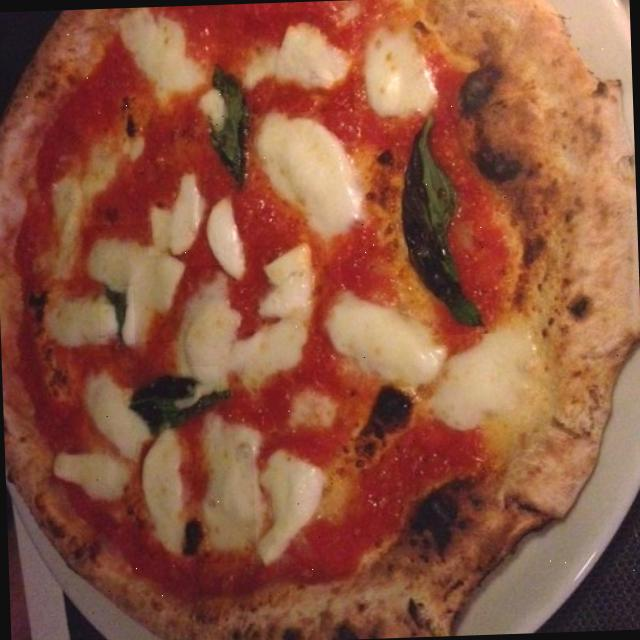basil: (386, 118, 496, 335), (194, 65, 256, 194), (125, 364, 220, 440), (100, 285, 134, 344)
cheese: (319, 279, 449, 407), (244, 106, 372, 232), (424, 312, 542, 442), (223, 242, 325, 385), (80, 221, 182, 344), (252, 446, 344, 576), (243, 9, 354, 113), (190, 412, 266, 562), (109, 7, 218, 106), (344, 15, 446, 116), (176, 262, 250, 398), (53, 419, 142, 524), (134, 422, 194, 556), (80, 361, 159, 458), (44, 290, 122, 354), (192, 196, 256, 272), (146, 180, 210, 254)
pizza: (0, 0, 640, 640)
